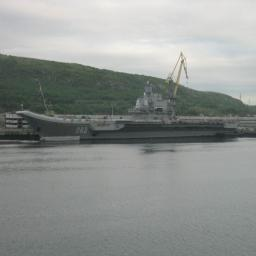Portanaves: (16, 80, 247, 149)
